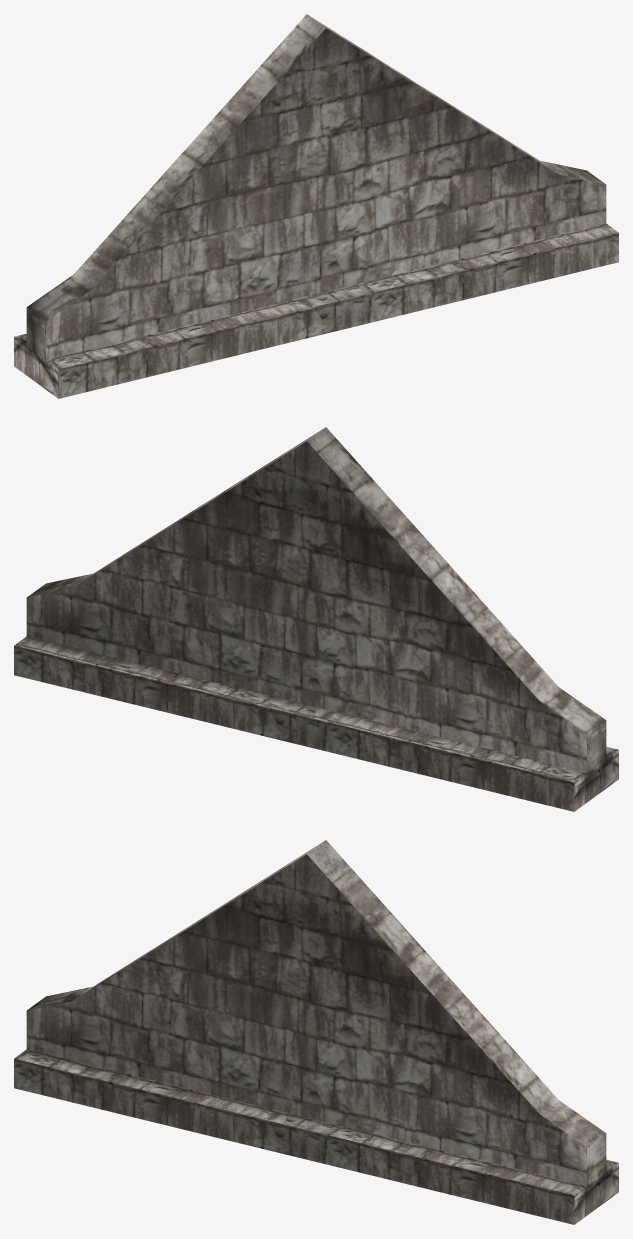
File: roof_angle_lg.glb
3 renders of one model, top to bottom at view 1: azimuth 30°, elevation 25°; view 2: azimuth 150°, elevation 25°; view 3: azimuth 330°, elevation 25°, orthographic.
Parts seen in each view (by area): view 1: roof_angle_lg; view 2: roof_angle_lg; view 3: roof_angle_lg.
Part boxes in pixels (box(x1,y1,x2,y2)): roof_angle_lg: box(14, 14, 618, 398); roof_angle_lg: box(14, 427, 618, 811); roof_angle_lg: box(14, 840, 618, 1224).
Bounding box in the file's own units: 16 × 8 × 2.21.
1 material, 1 textured.
